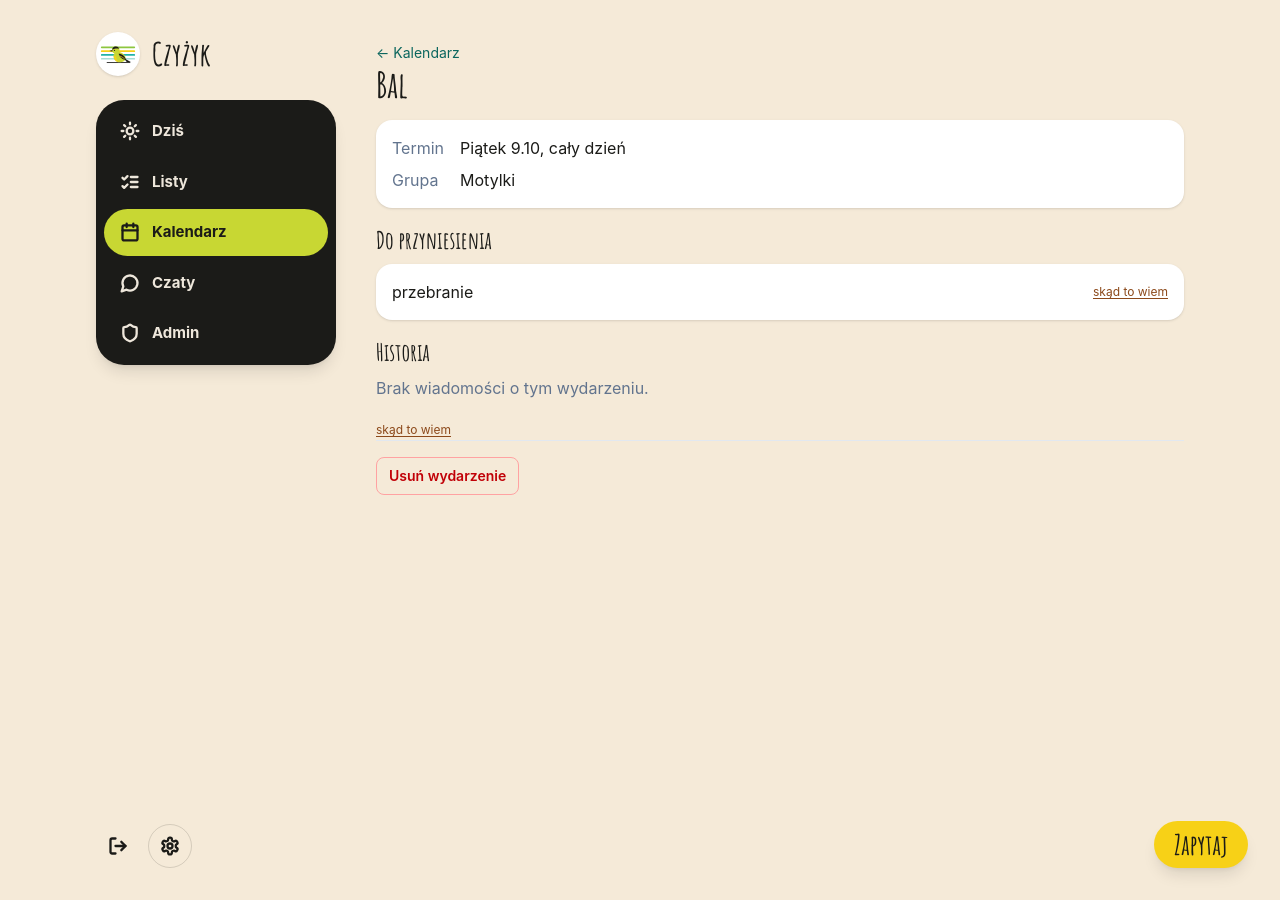
Test case: Szczegóły wydarzenia › admin usuwa wydarzenie po potwierdzeniu i wraca do kalendarza
Click the button "Usuń wydarzenie" at (448, 476), box [376, 457, 519, 495]
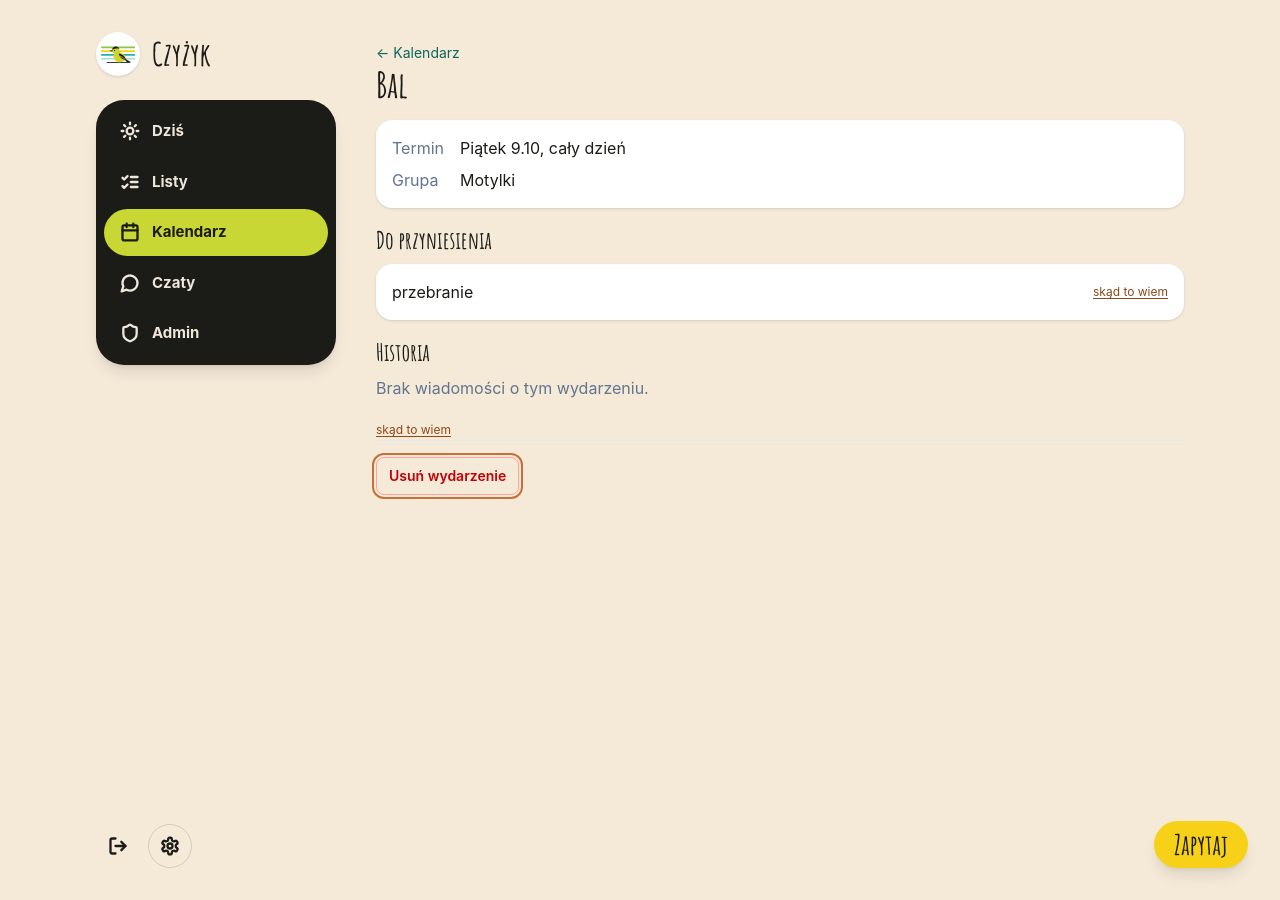
Click the button "Usuń wydarzenie" at (448, 476), box [376, 457, 519, 495]
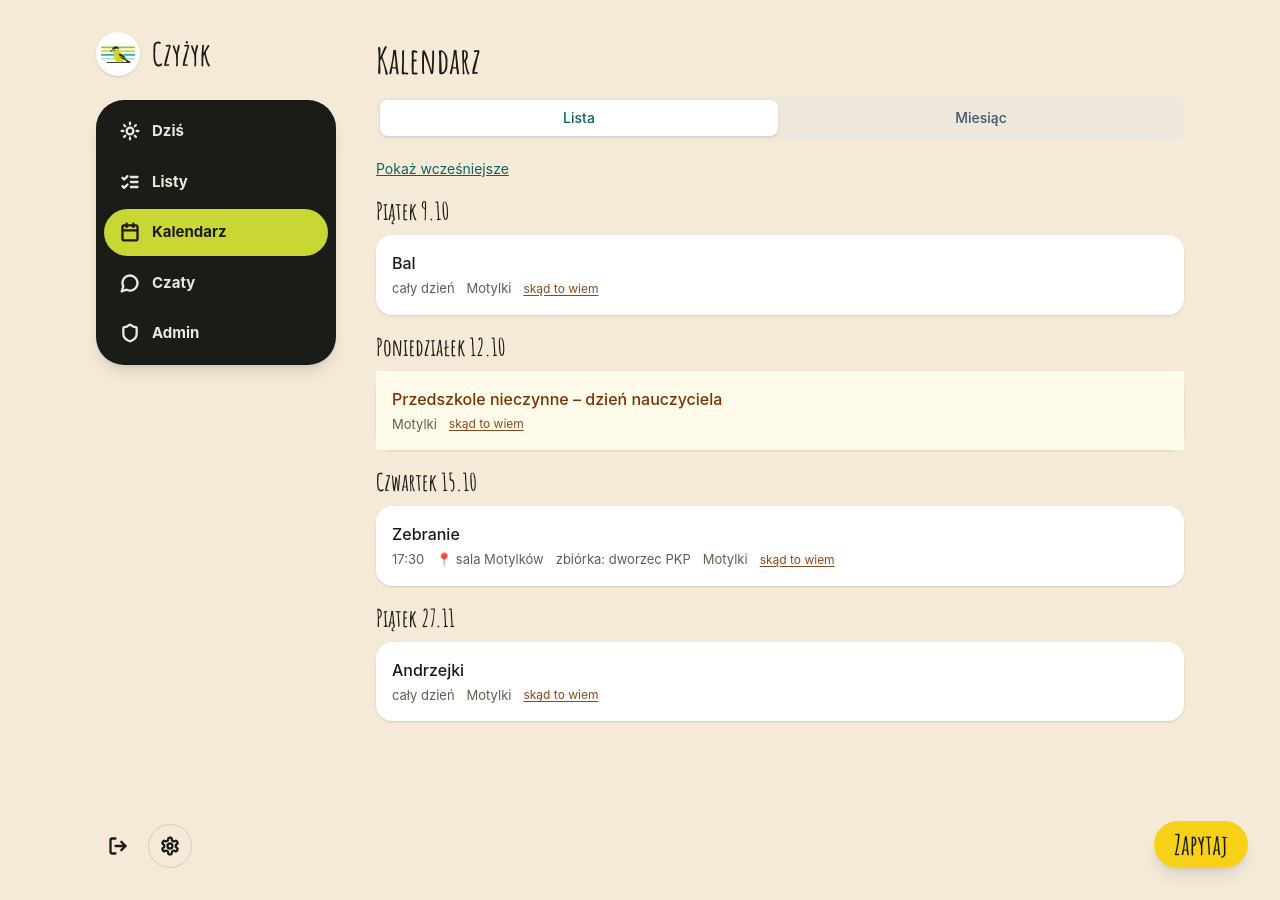
Result: the heading "Kalendarz" is shown at [376, 37, 481, 83]
